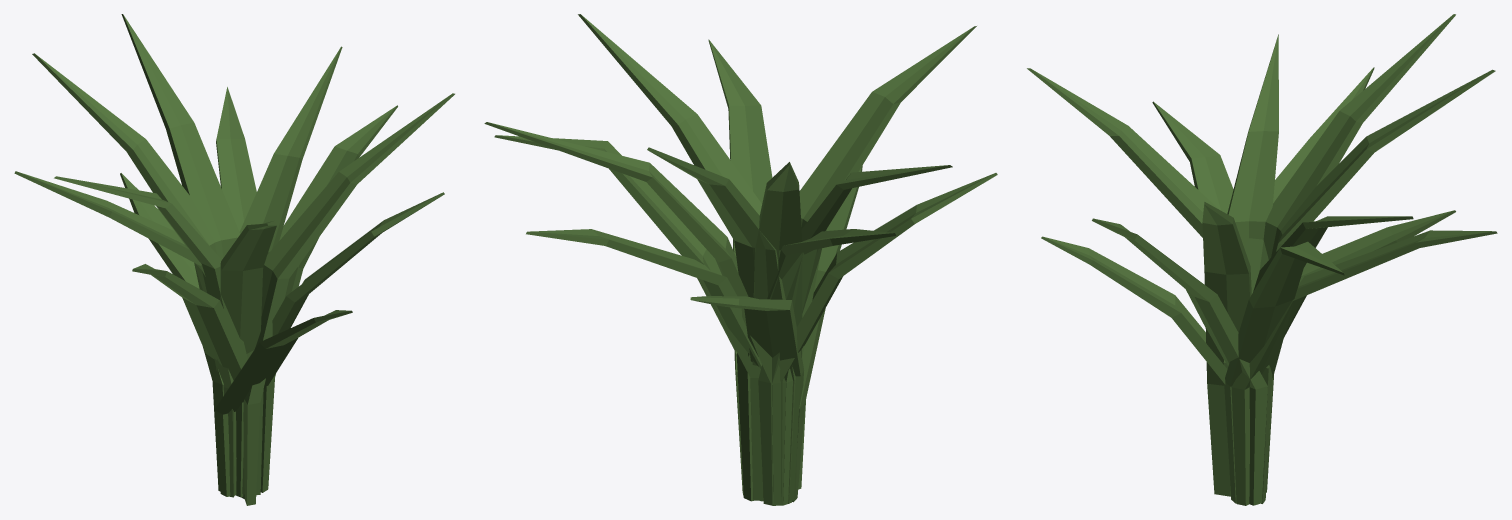
Rendered from padi setengah jadi.fbx.
3 views of the same model, side by side, from view 1: azimuth 30°, elevation 25°; view 2: azimuth 150°, elevation 25°; view 3: azimuth 270°, elevation 25° (orthographic). The views are drawn at different scales.
Parts seen in each view (by area): view 1: Cube.029; view 2: Cube.029; view 3: Cube.029.
Boxes of the visible parts, x1,y1,x2,y2 form: Cube.029: (14,14,454,505); Cube.029: (484,14,997,505); Cube.029: (1027,14,1497,505).
Size of the model in its own units: 78.27 by 78.8 by 79.54.
